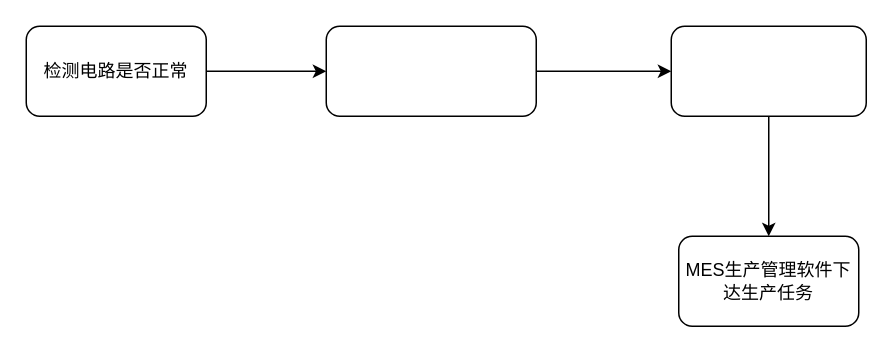
This 893x353 diagram has some shape labels left out. The centre of each missing label's shape, as x and y in pixels:
"数字化建模与仿真：工件流程设计与加工程序仿真生产、验证检查" goes at (x=768, y=70).
"系统初始化 + 人工摆放工件于立体仓库" goes at (x=430, y=70).
